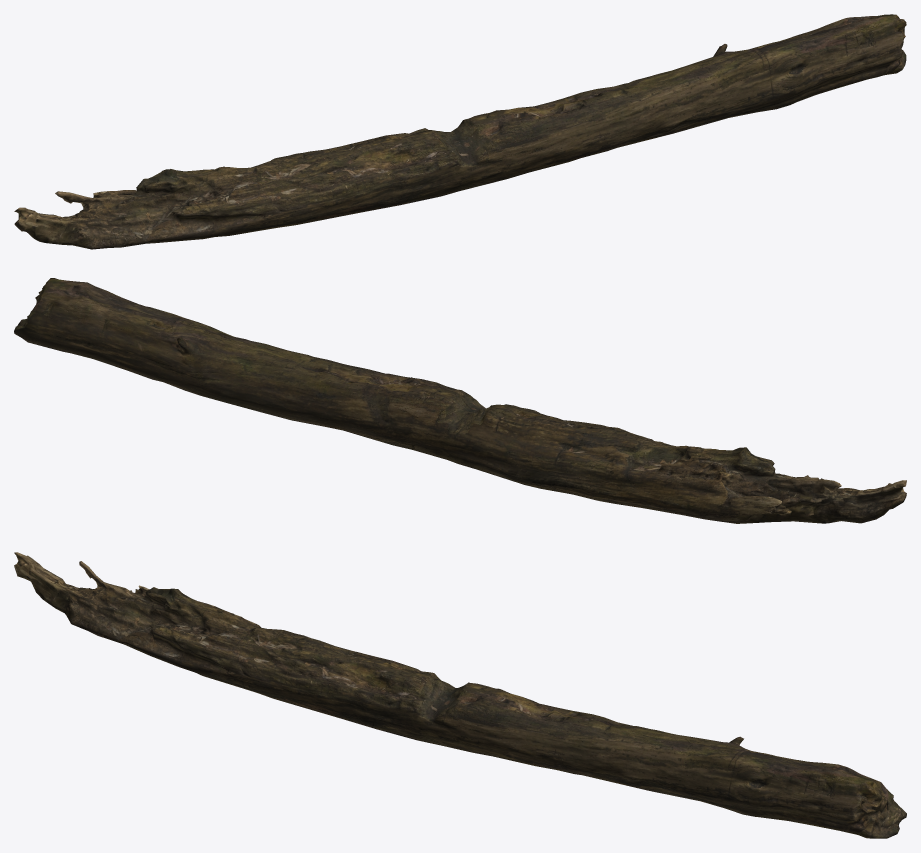
Rendered from dead_tree_trunk.glb.
3 views of the same model, one above another, from view 1: azimuth 30°, elevation 25°; view 2: azimuth 150°, elevation 25°; view 3: azimuth 330°, elevation 25° (orthographic).
Size of the model in its own units: 3.05 by 0.2868 by 0.2767.
Materials: 1 (1 with a texture image).
